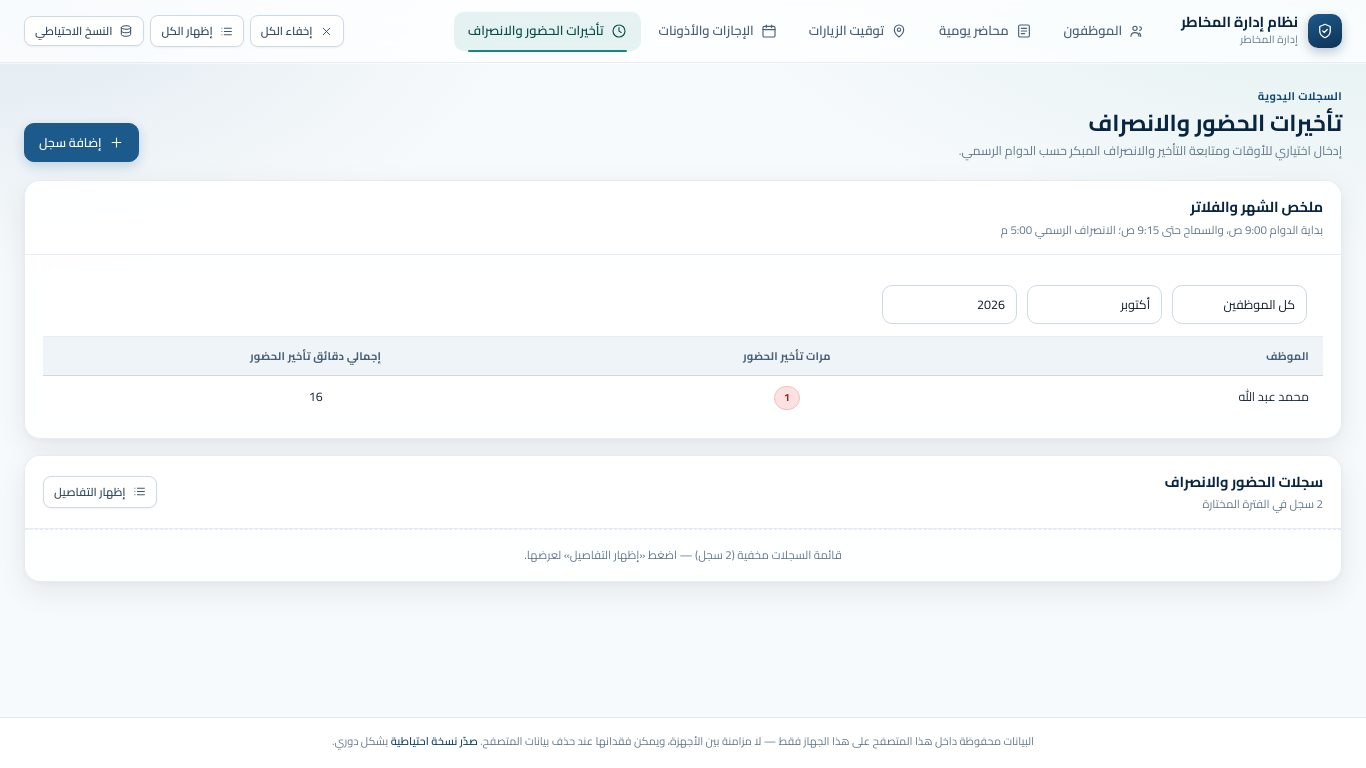
Test: تفاصيل وملخص تأخيرات الحضور والانصراف › يخفي التفاصيل مبدئيًا، ويعرض حدث التأخير عند إظهارها مع ملخص الموظف فقط
Expected: the heading "تأخيرات الحضور والانصراف" is shown, [1088, 101, 1342, 144]
Expected: the column heading "الملاحظات" is not shown
Click the button "إظهار التفاصيل": click(100, 492) [43, 476, 156, 508]
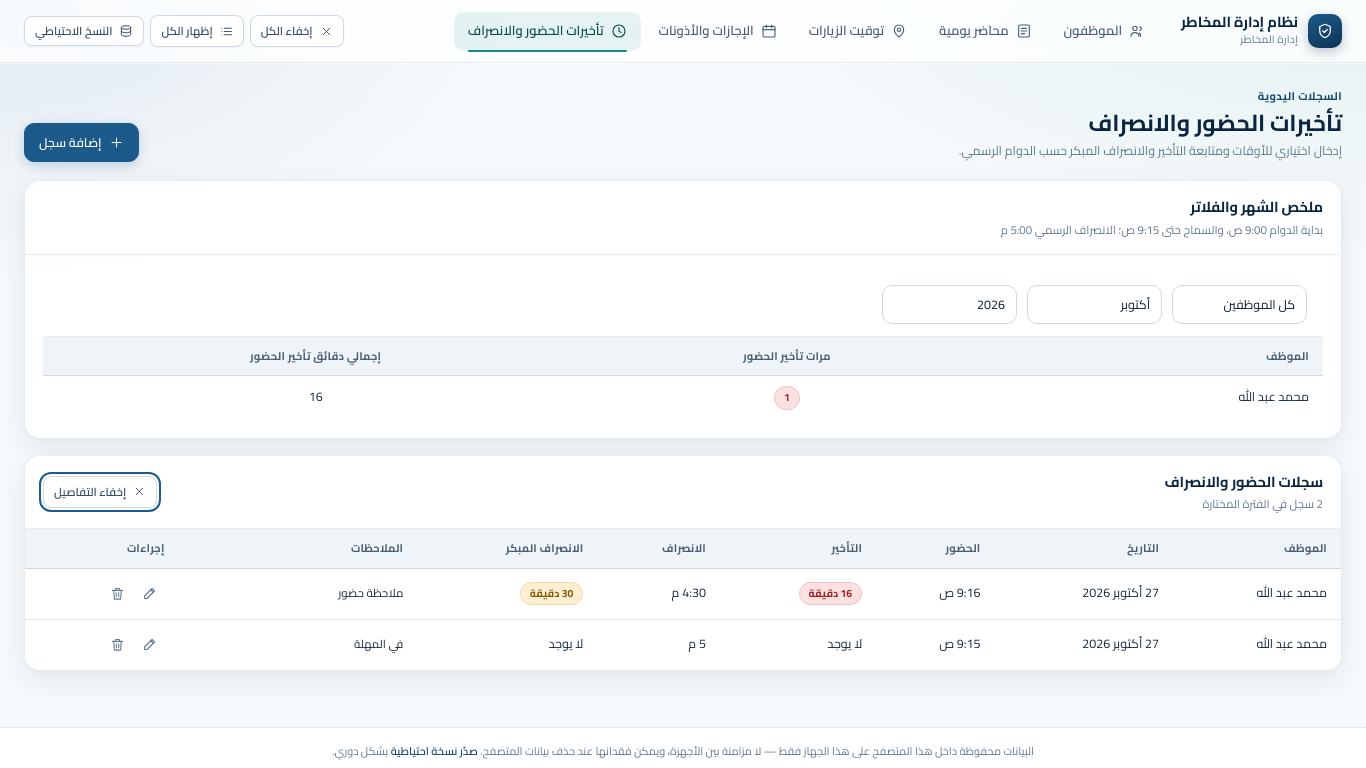
Expected: the button "إخفاء التفاصيل" is shown, [43, 476, 157, 508]
Expected: the column heading "الملاحظات" is shown, [178, 529, 417, 568]
Expected: the text "ملاحظة حضور" is shown, [178, 569, 417, 620]
